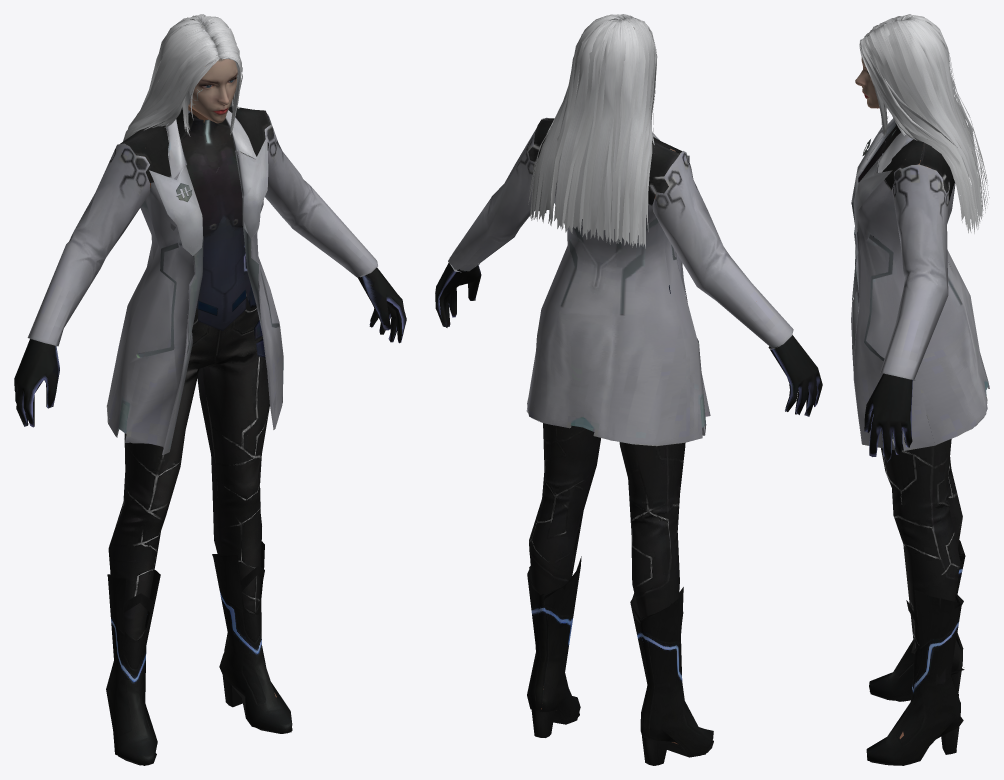
File: Player.fbx
3 renders of one model, left to right at view 1: azimuth 30°, elevation 25°; view 2: azimuth 150°, elevation 25°; view 3: azimuth 270°, elevation 25°, orthographic.
Visible parts, largest first — view 1: Mesh_0036.rip_Mesh_0036.rip_mesh0000.001, Mesh_0030.rip_Mesh_0030.rip_mesh0000.001, Mesh_0032.rip_Mesh_0032.rip_mesh0000.001, Mesh_0028.rip_Mesh_0028.rip_mesh0000.001, Mesh_0034.rip_Mesh_0034.rip_mesh0000.002, Mesh_0025.rip_Mesh_0025.rip_mesh0000, Mesh_0022.rip_Mesh_0022.rip_mesh0000.002; view 2: Mesh_0036.rip_Mesh_0036.rip_mesh0000.001, Mesh_0034.rip_Mesh_0034.rip_mesh0000.002, Mesh_0030.rip_Mesh_0030.rip_mesh0000.001, Mesh_0028.rip_Mesh_0028.rip_mesh0000.001, Mesh_0032.rip_Mesh_0032.rip_mesh0000.001; view 3: Mesh_0036.rip_Mesh_0036.rip_mesh0000.001, Mesh_0034.rip_Mesh_0034.rip_mesh0000.002, Mesh_0028.rip_Mesh_0028.rip_mesh0000.001, Mesh_0030.rip_Mesh_0030.rip_mesh0000.001, Mesh_0032.rip_Mesh_0032.rip_mesh0000.001, Mesh_0022.rip_Mesh_0022.rip_mesh0000.002.
Boxes of the visible parts, x1=… form: Mesh_0036.rip_Mesh_0036.rip_mesh0000.001: x1=27, y1=114, x2=377, y2=454; Mesh_0030.rip_Mesh_0030.rip_mesh0000.001: x1=108, y1=289, x2=269, y2=640; Mesh_0032.rip_Mesh_0032.rip_mesh0000.001: x1=14, y1=106, x2=406, y2=427; Mesh_0028.rip_Mesh_0028.rip_mesh0000.001: x1=106, y1=541, x2=292, y2=765; Mesh_0034.rip_Mesh_0034.rip_mesh0000.002: x1=123, y1=14, x2=242, y2=141; Mesh_0025.rip_Mesh_0025.rip_mesh0000: x1=187, y1=146, x2=242, y2=237; Mesh_0022.rip_Mesh_0022.rip_mesh0000.002: x1=188, y1=25, x2=237, y2=123; Mesh_0036.rip_Mesh_0036.rip_mesh0000.001: x1=448, y1=117, x2=793, y2=446; Mesh_0034.rip_Mesh_0034.rip_mesh0000.002: x1=528, y1=14, x2=657, y2=248; Mesh_0030.rip_Mesh_0030.rip_mesh0000.001: x1=529, y1=423, x2=685, y2=686; Mesh_0028.rip_Mesh_0028.rip_mesh0000.001: x1=527, y1=556, x2=713, y2=765; Mesh_0032.rip_Mesh_0032.rip_mesh0000.001: x1=435, y1=118, x2=822, y2=416; Mesh_0036.rip_Mesh_0036.rip_mesh0000.001: x1=851, y1=141, x2=989, y2=450; Mesh_0034.rip_Mesh_0034.rip_mesh0000.002: x1=859, y1=14, x2=989, y2=233; Mesh_0028.rip_Mesh_0028.rip_mesh0000.001: x1=866, y1=540, x2=965, y2=765; Mesh_0030.rip_Mesh_0030.rip_mesh0000.001: x1=881, y1=439, x2=962, y2=684; Mesh_0032.rip_Mesh_0032.rip_mesh0000.001: x1=851, y1=118, x2=954, y2=462; Mesh_0022.rip_Mesh_0022.rip_mesh0000.002: x1=855, y1=57, x2=879, y2=108.
Size of the model in its own units: 279 by 503 by 89.24.
